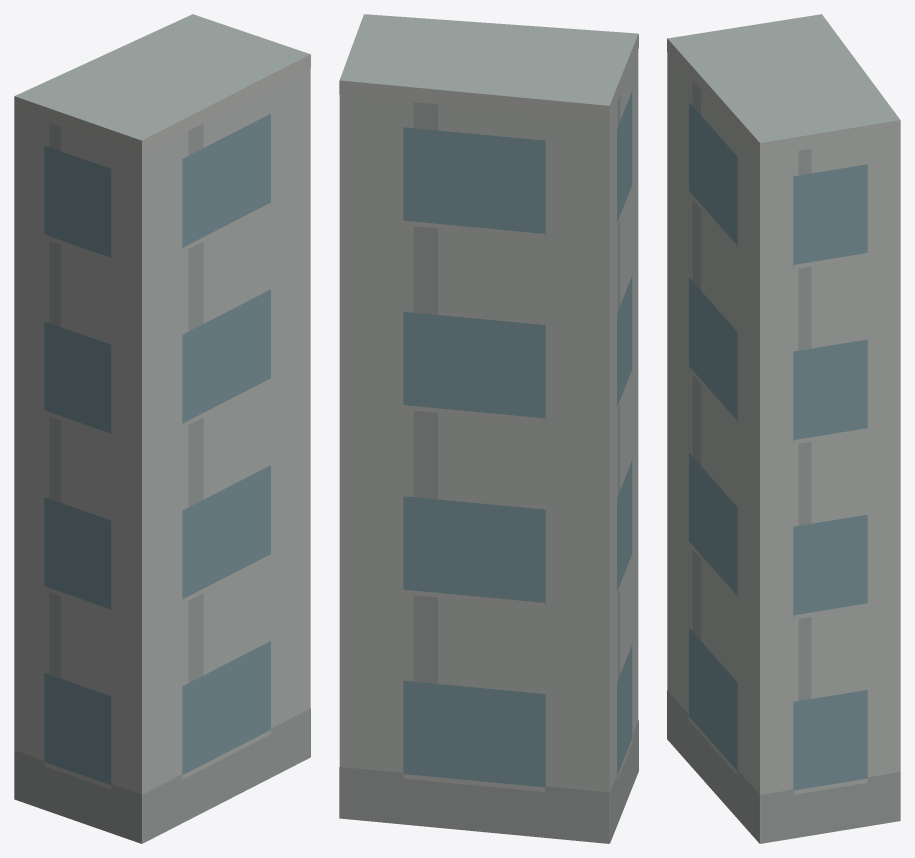
File: survey-upis-32645566.glb
The picture shows the model from 3 angles, left to right: view 1: azimuth 30°, elevation 25°; view 2: azimuth 150°, elevation 25°; view 3: azimuth 270°, elevation 25°; orthographic projection. The views are drawn at different scales.
Visible parts, largest first — view 1: survey-upis-32645566.tmp; view 2: survey-upis-32645566.tmp; view 3: survey-upis-32645566.tmp.
Boxes of the visible parts, x1=… form: survey-upis-32645566.tmp: x1=14, y1=14, x2=310, y2=843; survey-upis-32645566.tmp: x1=339, y1=14, x2=638, y2=843; survey-upis-32645566.tmp: x1=667, y1=14, x2=900, y2=843.
Bounding box in the file's own units: 4.82 × 12.2 × 3.69.
